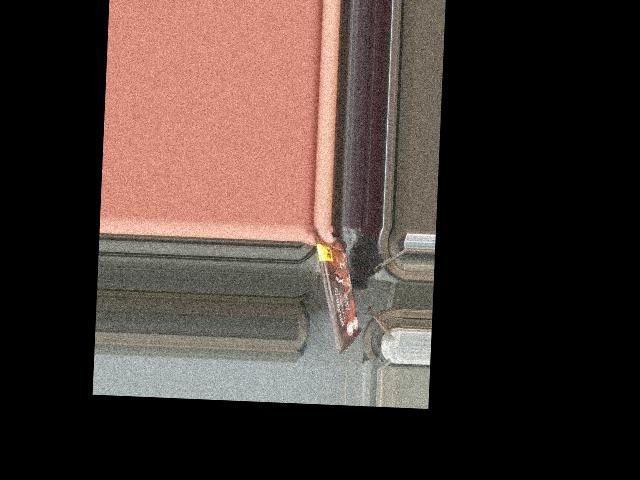chocolate: (310, 237, 365, 353)
